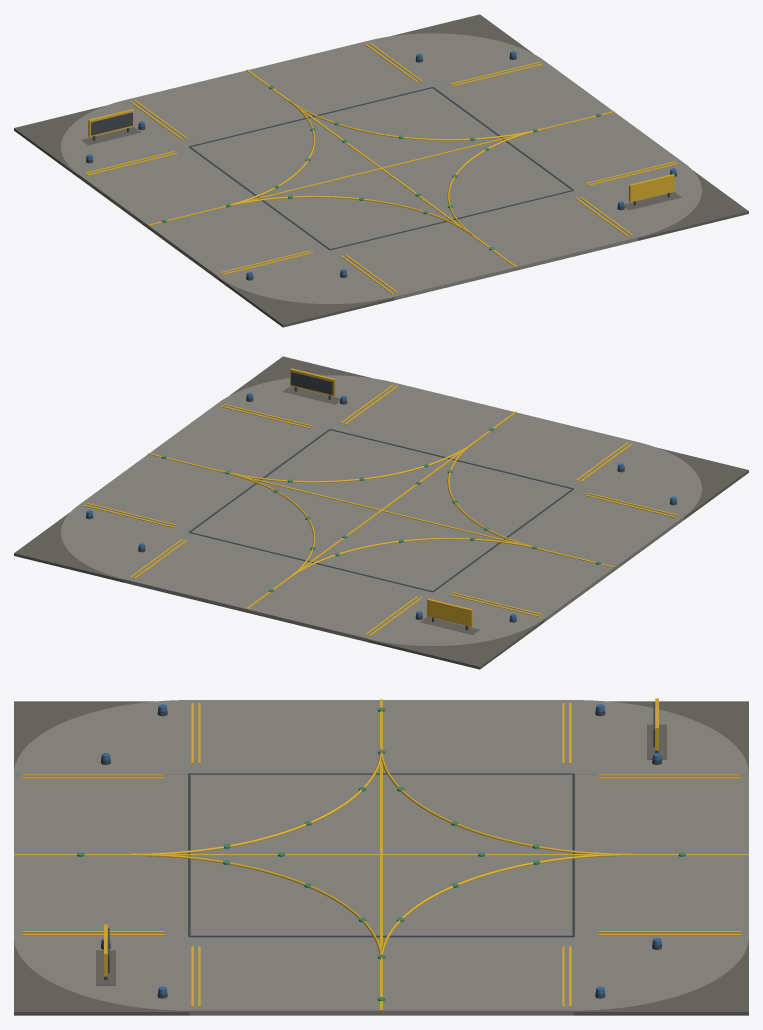
Rendered from cross.glb.
3 renders of one model, top to bottom at view 1: azimuth 30°, elevation 25°; view 2: azimuth 150°, elevation 25°; view 3: azimuth 270°, elevation 25°, orthographic. The views are drawn at different scales.
Parts seen in each view (by area): view 1: pavement_through, pavement_cross, fillet_se, fillet_nw, fillet_ne, fillet_sw, shoulder_nw, shoulder_ne, shoulder_sw, shoulder_se, centreline_cross, sign_panel_ne (+4 smaller); view 2: pavement_through, pavement_cross, fillet_se, fillet_nw, fillet_ne, fillet_sw, shoulder_sw, shoulder_se, shoulder_nw, shoulder_ne, centreline_cross, sign_panel_sw (+4 smaller); view 3: pavement_cross, pavement_through, fillet_se, fillet_nw, fillet_ne, fillet_sw, shoulder_se, shoulder_ne, shoulder_nw, shoulder_sw, centreline_through, joint_ew_e (+8 smaller).
Boxes of the visible parts, <box> form: pavement_through: <box>125,40,637,300</box>; pavement_cross: <box>78,60,684,279</box>; fillet_se: <box>369,33,543,87</box>; fillet_nw: <box>219,250,393,304</box>; fillet_ne: <box>574,163,701,237</box>; fillet_sw: <box>61,100,188,173</box>; shoulder_nw: <box>218,277,394,327</box>; shoulder_ne: <box>637,170,748,240</box>; shoulder_sw: <box>14,105,105,177</box>; shoulder_se: <box>391,14,533,53</box>; centreline_cross: <box>148,111,614,225</box>; sign_panel_ne: <box>629,174,674,202</box>; pavement_through: <box>125,382,637,642</box>; pavement_cross: <box>78,402,684,621</box>; fillet_se: <box>61,505,188,579</box>; fillet_nw: <box>574,442,701,515</box>; fillet_ne: <box>219,375,393,429</box>; fillet_sw: <box>369,592,543,646</box>; shoulder_sw: <box>368,619,544,669</box>; shoulder_se: <box>14,512,125,582</box>; shoulder_nw: <box>657,447,748,519</box>; shoulder_ne: <box>229,356,371,395</box>; centreline_cross: <box>148,453,614,567</box>; sign_panel_sw: <box>427,598,472,626</box>; pavement_cross: <box>189,700,573,1015</box>; pavement_through: <box>14,774,748,936</box>; fillet_se: <box>573,936,748,1010</box>; fillet_nw: <box>14,700,189,773</box>; fillet_ne: <box>14,936,189,1010</box>; fillet_sw: <box>573,700,748,773</box>; shoulder_se: <box>573,939,748,1015</box>; shoulder_ne: <box>14,939,189,1015</box>; shoulder_nw: <box>14,701,187,774</box>; shoulder_sw: <box>575,701,748,774</box>; centreline_through: <box>14,854,748,855</box>; joint_ew_e: <box>189,935,573,937</box>.
Bounding box in the file's own units: 44 × 2.25 × 44.
